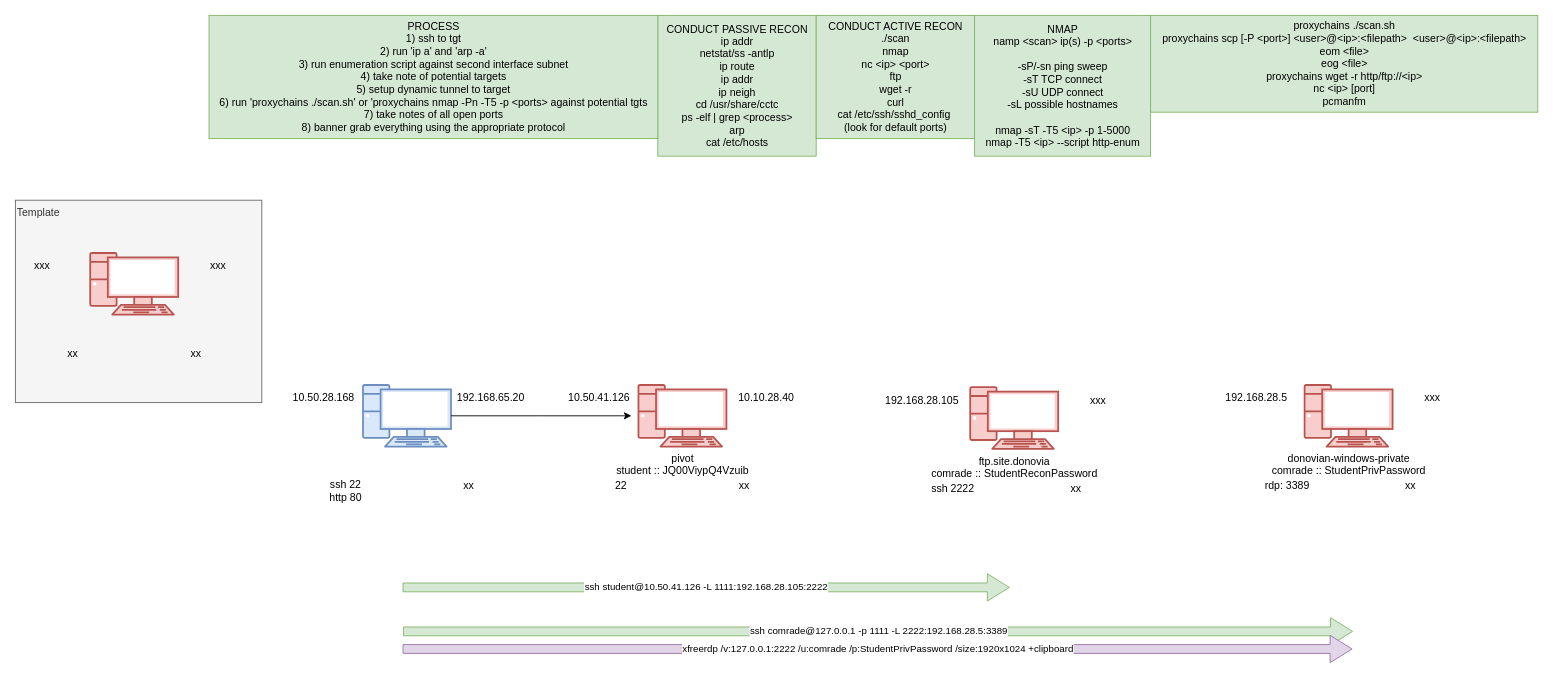
Some shapes in this 1553 by 678 pixel diagram are drawn without their labels. Each missing label, with the box of its shape:
box_name user :: pass: (89, 252, 179, 315)
lin-ops student :: password: (362, 384, 451, 447)
